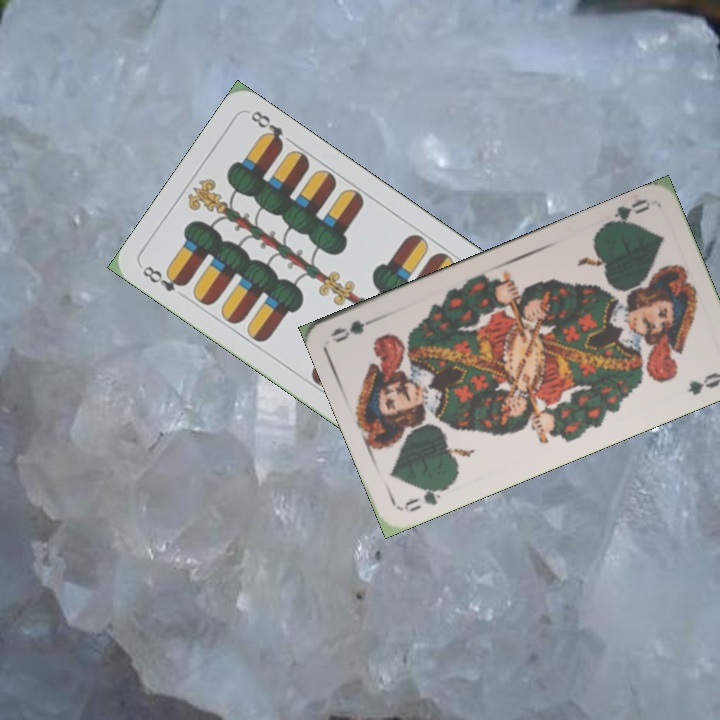E8: (138, 261, 190, 295)
GO: (598, 194, 653, 231), (399, 480, 454, 515)
